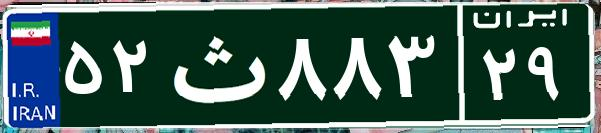2: (475, 38, 525, 113), (110, 28, 158, 105)
3: (385, 28, 445, 110)
5: (57, 26, 110, 107)
8: (273, 28, 330, 110), (330, 28, 385, 110)
9: (525, 38, 570, 115)
ث: (158, 15, 273, 115)
